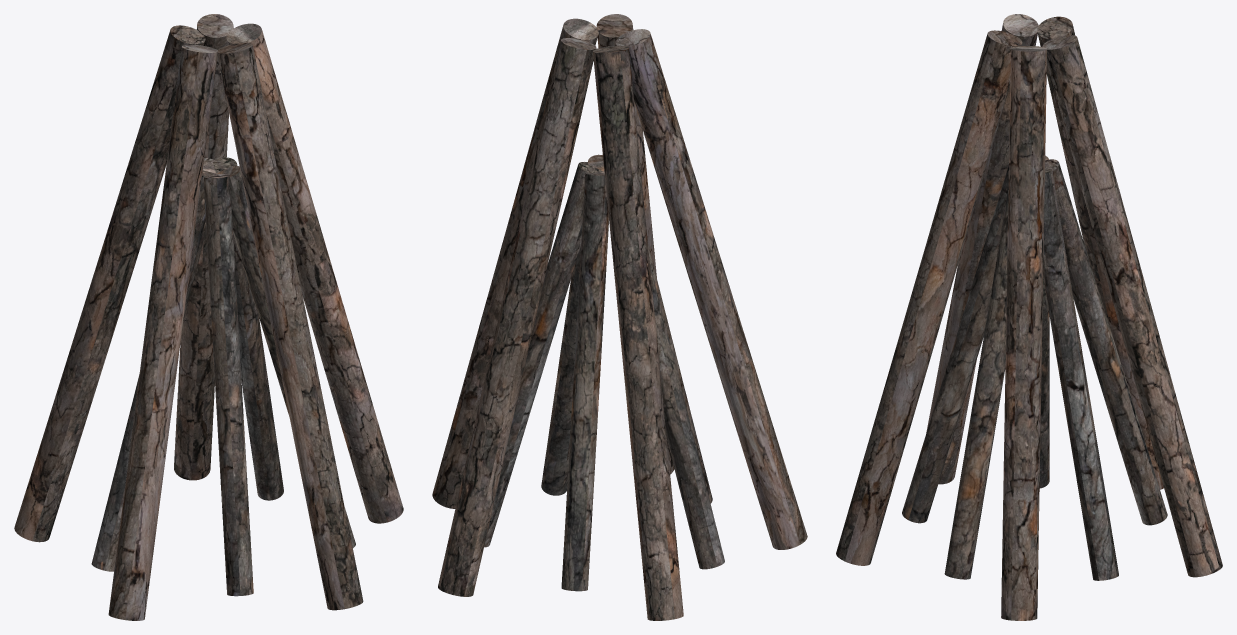
File: bonfier.fbx
3 views of the same model, side by side, from view 1: azimuth 30°, elevation 25°; view 2: azimuth 150°, elevation 25°; view 3: azimuth 270°, elevation 25° (orthographic).
Visible parts, largest first — view 1: Cylinder; view 2: Cylinder; view 3: Cylinder.
Part boxes in pixels (x1,y1,x2,y2): Cylinder: (14,14,403,620); Cylinder: (432,14,807,620); Cylinder: (836,14,1222,620).
Bounding box in the file's own units: 1070 × 1597 × 1094.
1 material, 1 textured.
